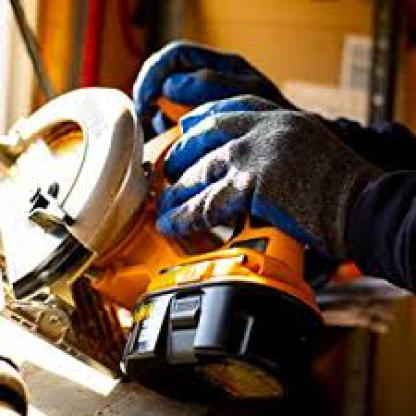with_gloves: (153, 111, 379, 262), (133, 41, 294, 112)
